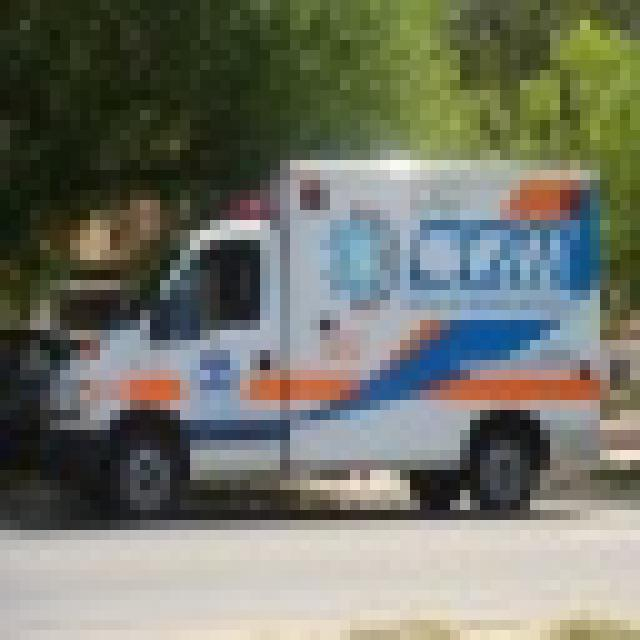Ambulance: (30, 150, 600, 510)
